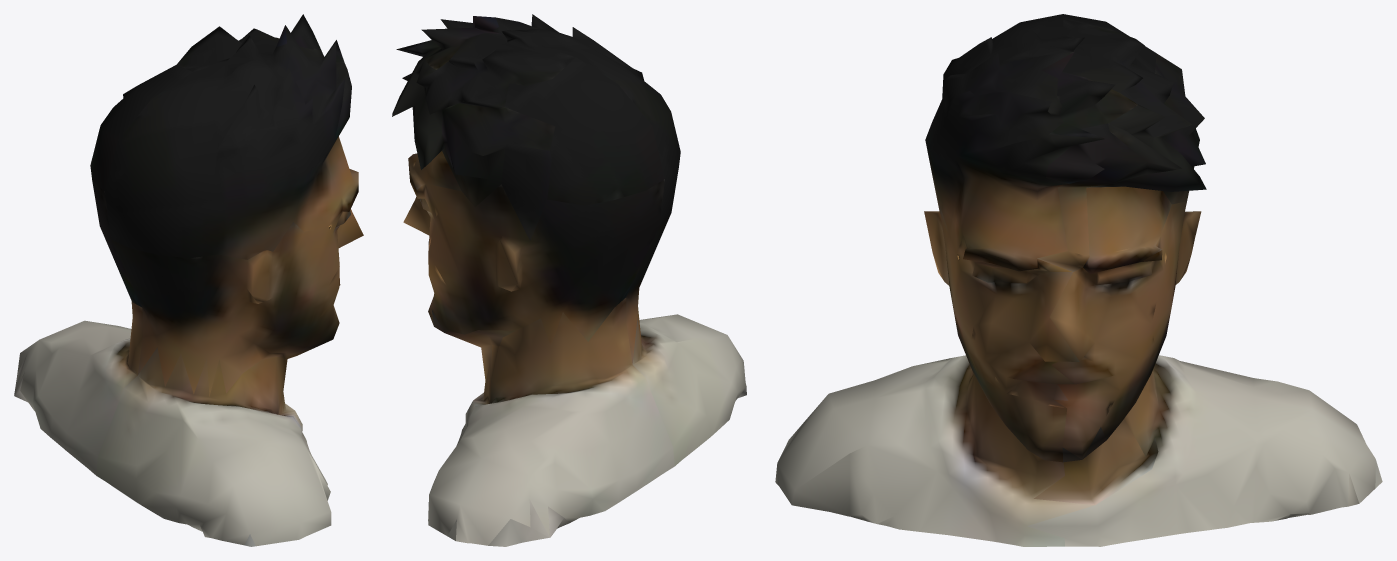
Rendered from about.glb.
3 views of the same model, side by side, from view 1: azimuth 30°, elevation 25°; view 2: azimuth 150°, elevation 25°; view 3: azimuth 270°, elevation 25° (orthographic). The views are drawn at different scales.
Parts seen in each view (by area): view 1: tripo_node_d501e524-7644-489f-897b-ccb42fa702eb; view 2: tripo_node_d501e524-7644-489f-897b-ccb42fa702eb; view 3: tripo_node_d501e524-7644-489f-897b-ccb42fa702eb.
Boxes of the visible parts, <box> form: tripo_node_d501e524-7644-489f-897b-ccb42fa702eb: <box>14,14,363,546</box>; tripo_node_d501e524-7644-489f-897b-ccb42fa702eb: <box>392,14,746,546</box>; tripo_node_d501e524-7644-489f-897b-ccb42fa702eb: <box>775,14,1382,546</box>.
Bounding box in the file's own units: 1.23 × 1.8 × 2.
4 materials, 1 textured.
